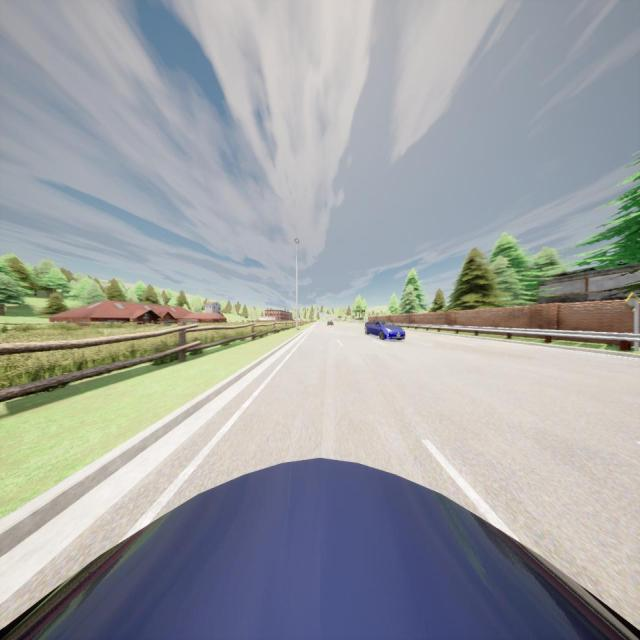Traffic_Signs: (624, 292, 640, 308)
Vehicle: (0, 456, 640, 640), (364, 318, 406, 341), (327, 320, 333, 326)
